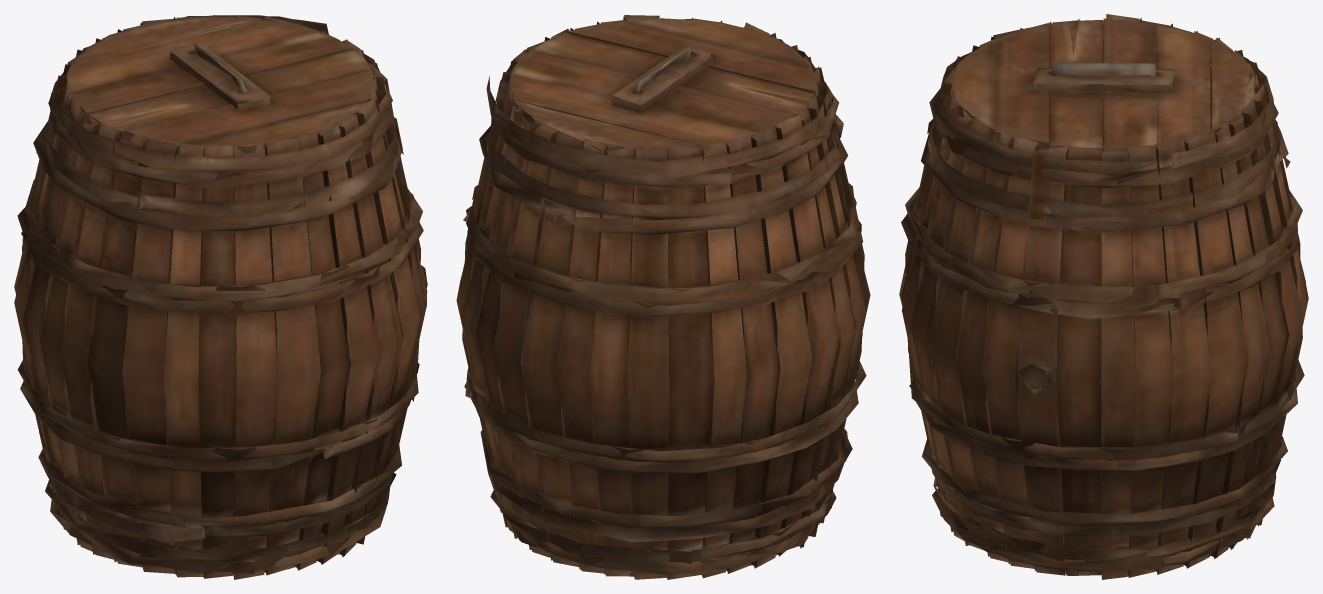
Rendered from barrel_old2.glb.
3 views of the same model, side by side, from view 1: azimuth 30°, elevation 25°; view 2: azimuth 150°, elevation 25°; view 3: azimuth 270°, elevation 25° (orthographic).
Parts seen in each view (by area): view 1: wooden_barrels_01_barrel02; view 2: wooden_barrels_01_barrel02; view 3: wooden_barrels_01_barrel02.
Part boxes in pixels (box(x1,y1,x2,y2)): wooden_barrels_01_barrel02: box(14, 15, 427, 579); wooden_barrels_01_barrel02: box(456, 15, 870, 579); wooden_barrels_01_barrel02: box(899, 14, 1308, 579).
Size of the model in its own units: 0.7616 by 0.9212 by 0.7616.
1 material, 1 textured.
